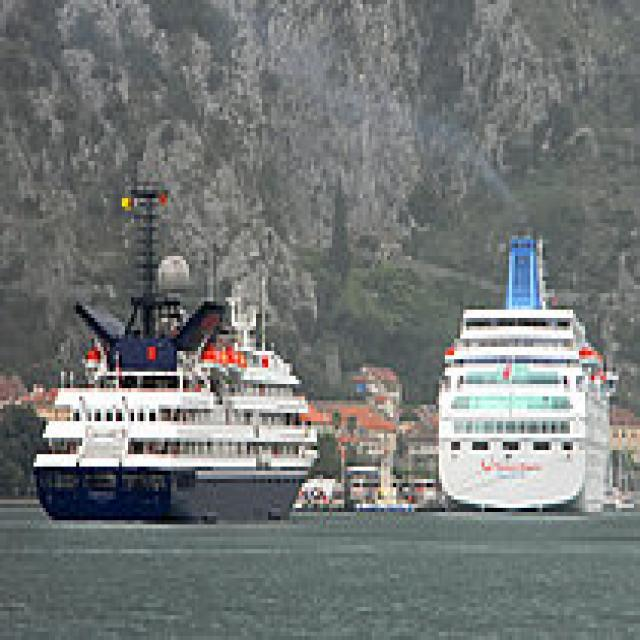Ship: (25, 266, 327, 522), (440, 220, 626, 530)
